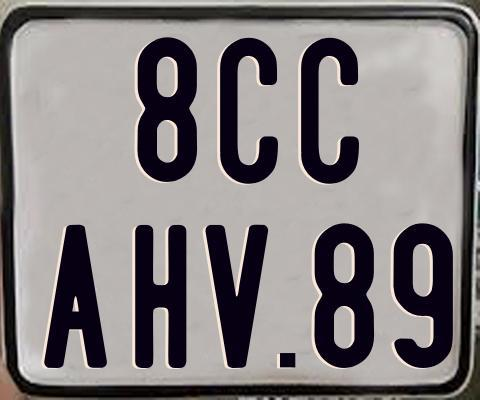8: (313, 220, 379, 367), (137, 36, 202, 185)
9: (391, 221, 457, 370)
A: (43, 224, 111, 372)
C: (218, 36, 279, 188), (298, 37, 356, 184)
H: (132, 223, 187, 370)
V: (202, 223, 269, 367)
